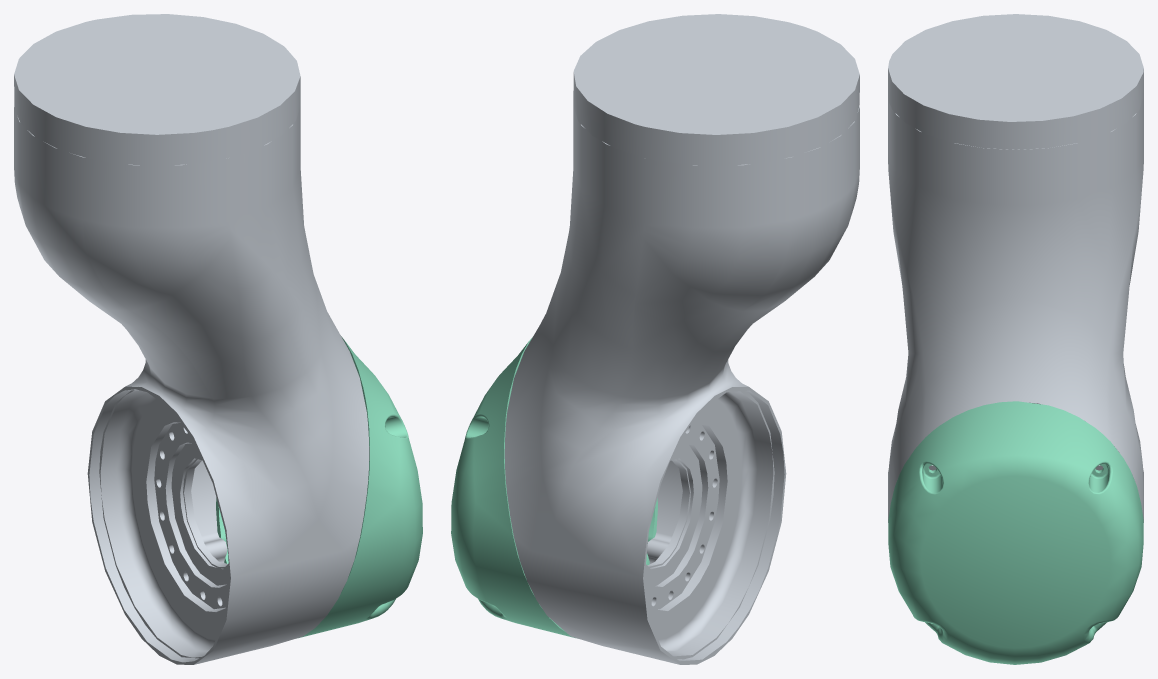
File: coro_7_link2.dae
3 views of the same model, side by side, from view 1: azimuth 30°, elevation 25°; view 2: azimuth 150°, elevation 25°; view 3: azimuth 270°, elevation 25° (orthographic). The views are drawn at different scales.
Parts seen in each view (by area): view 1: __004; view 2: __004; view 3: __004.
Boxes of the visible parts, x1,y1,x2,y2 form: __004: (14,14,422,664); __004: (451,14,859,664); __004: (888,14,1143,664).
Size of the model in its own units: 0.1732 by 0.125 by 0.2801.
